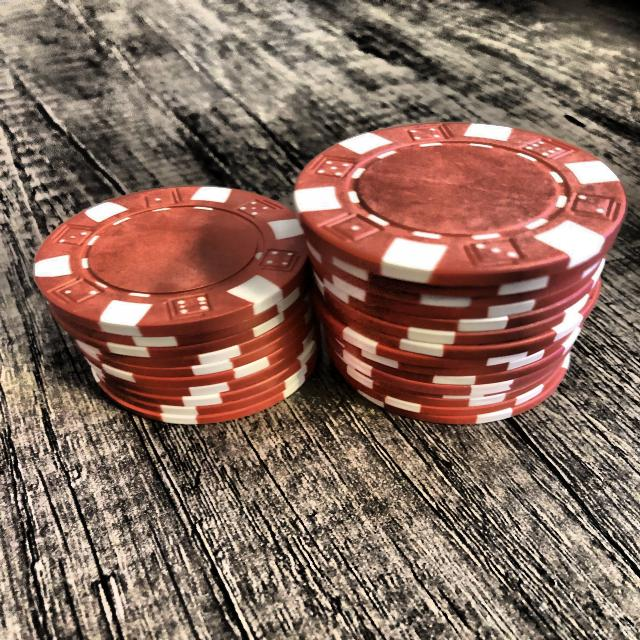Chip: (288, 88, 635, 452), (14, 175, 342, 425)
